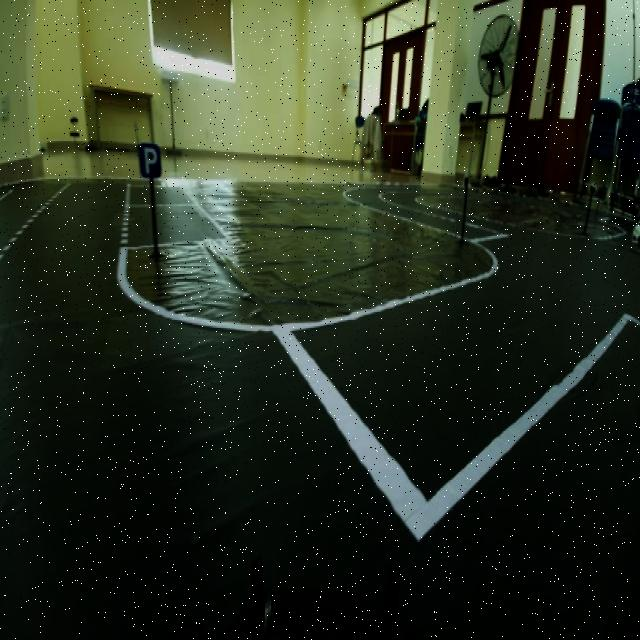parking: (137, 139, 166, 186)
